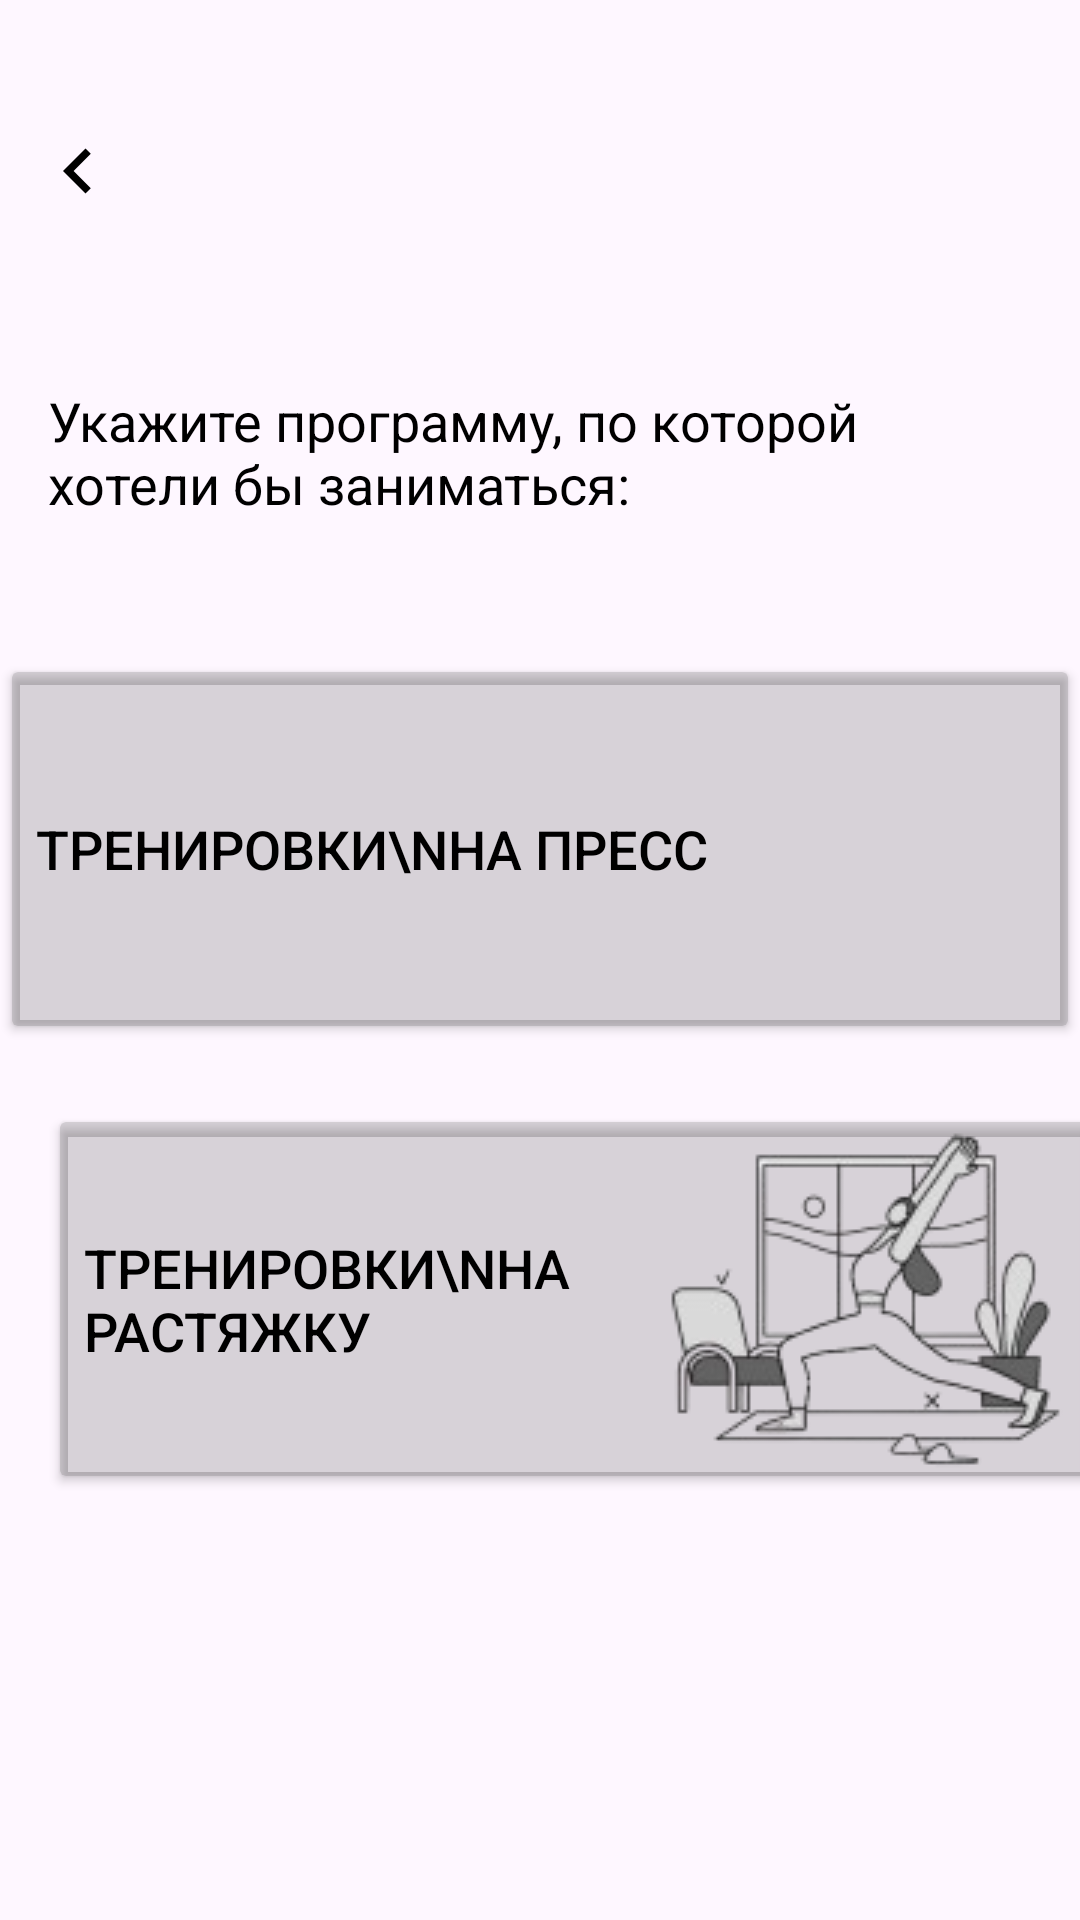

Locate icon controls on the screen. Image size 1080*1920, boxes as (x1, y1, x2, y2).
Нажмите, если хотите вернуться на предыдущий экран: (63, 148, 91, 194)
